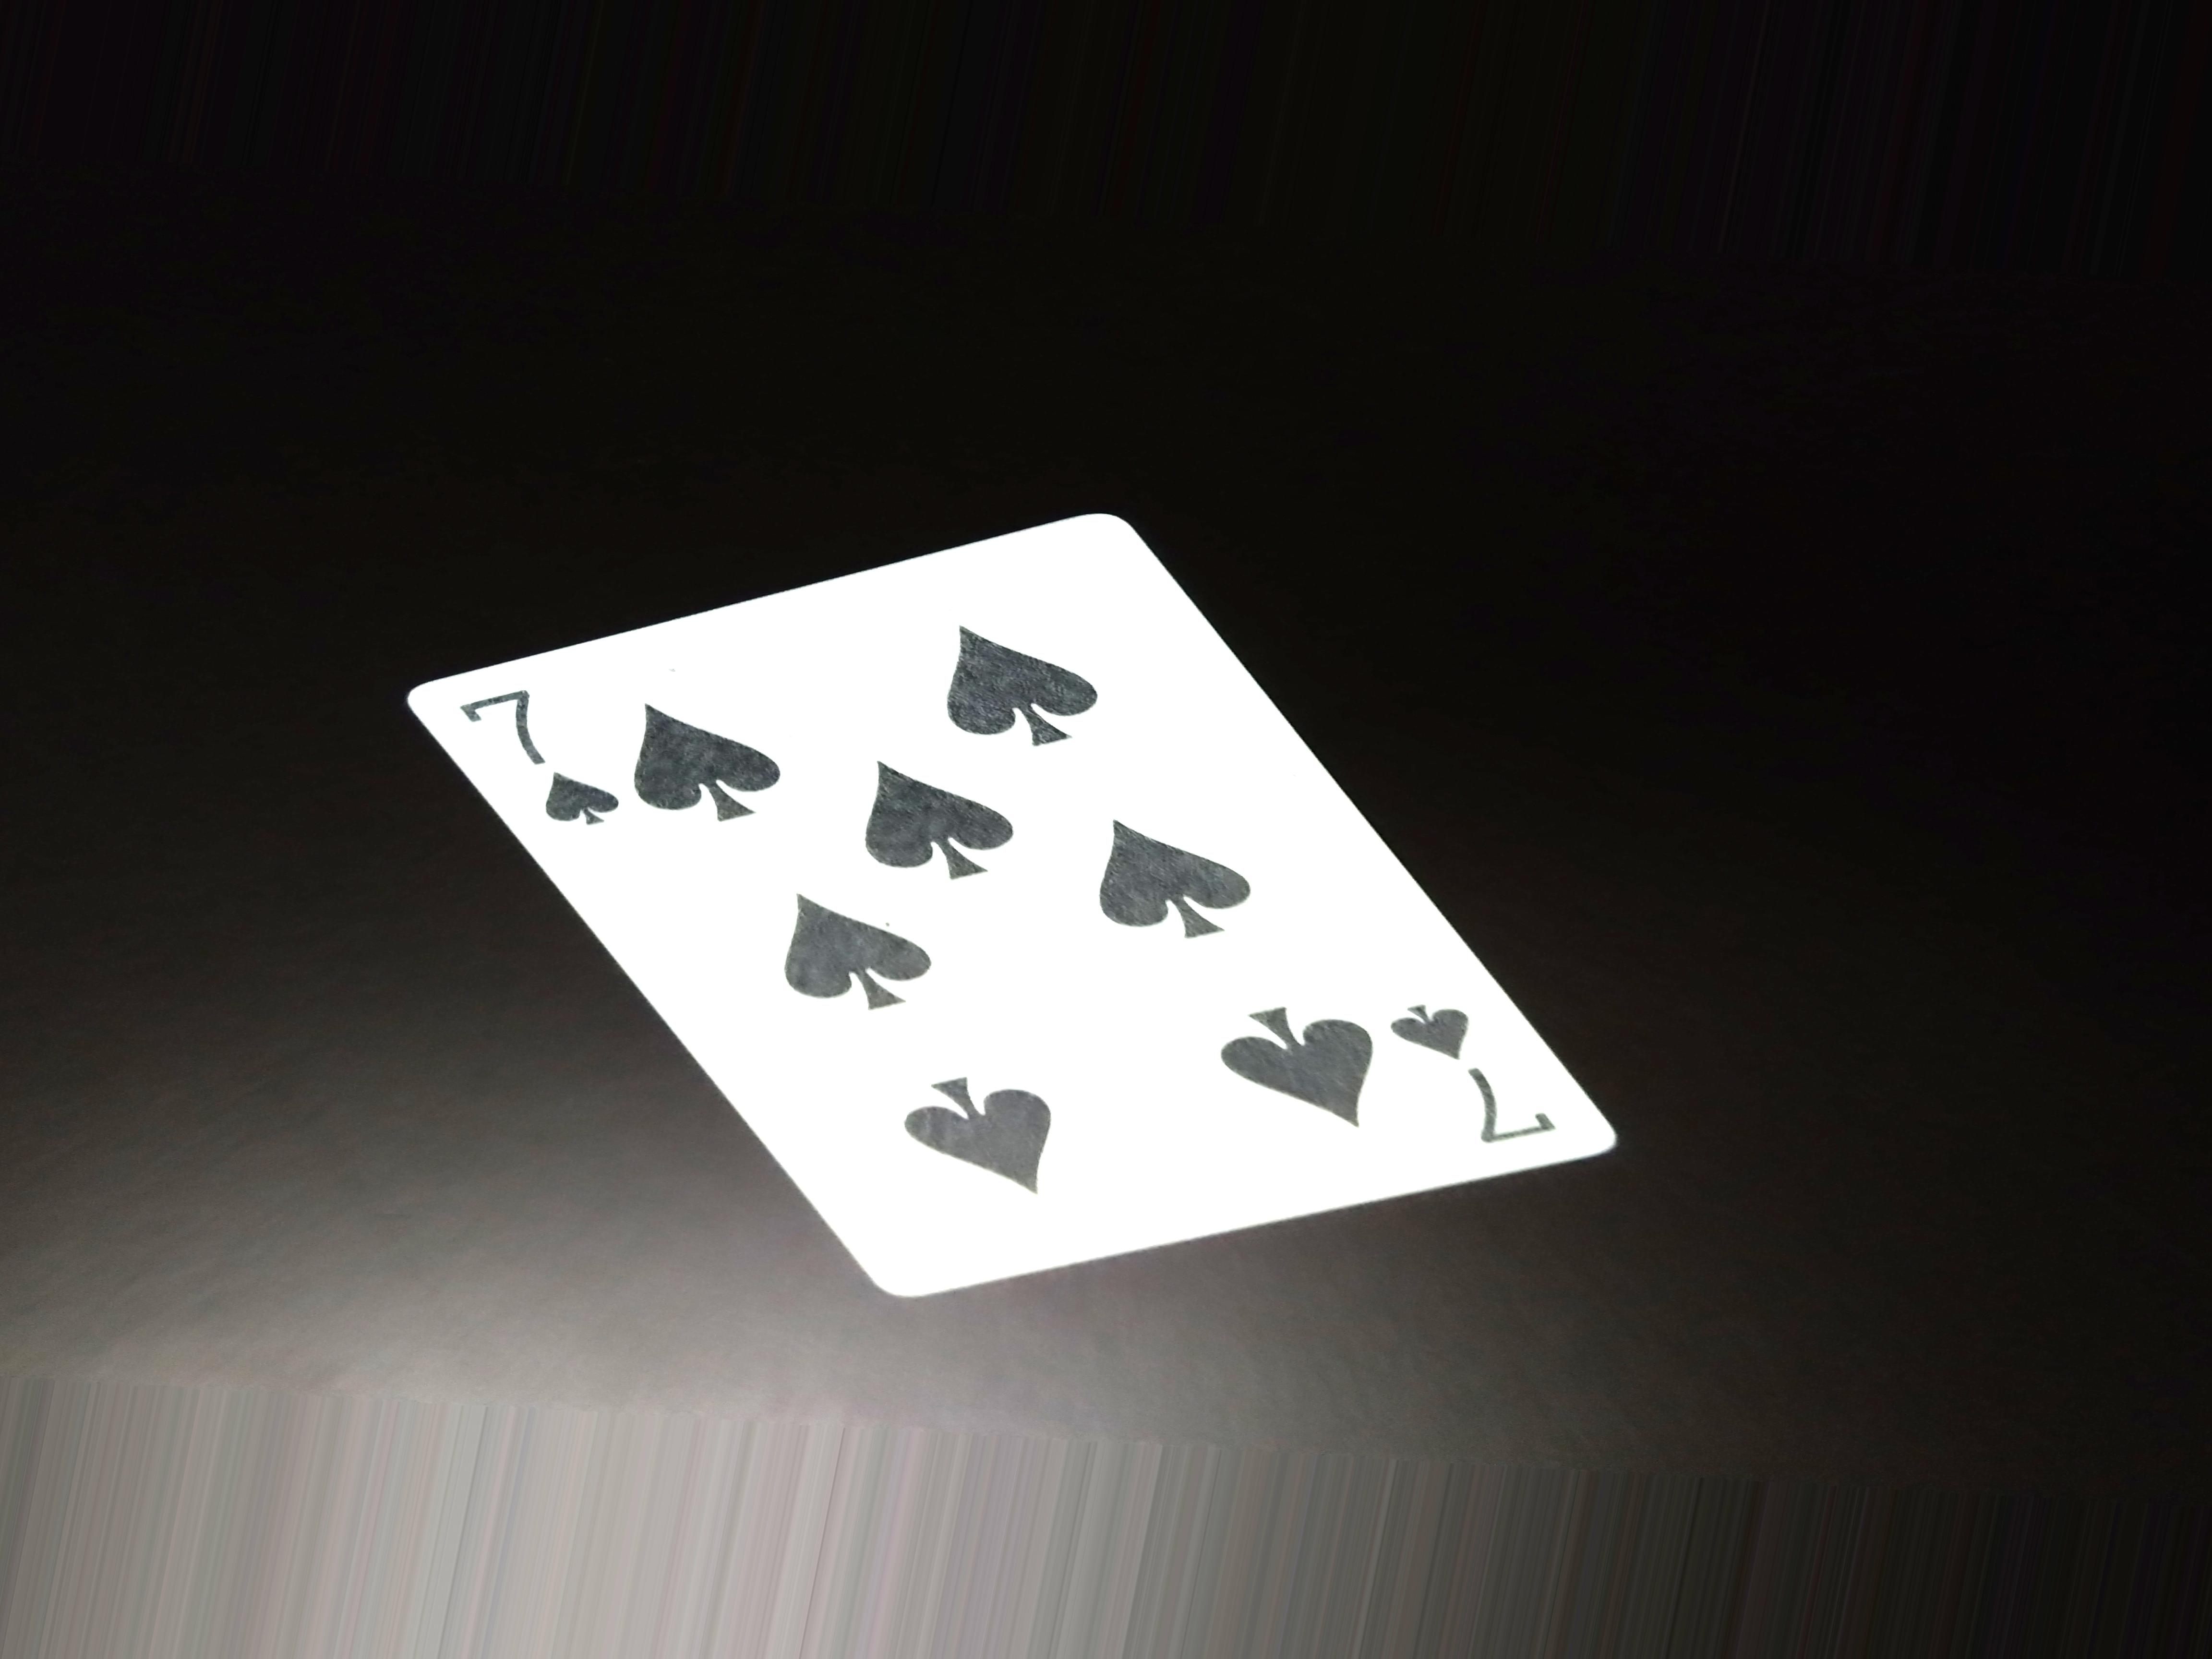7S: (1376, 992, 1575, 1176)
